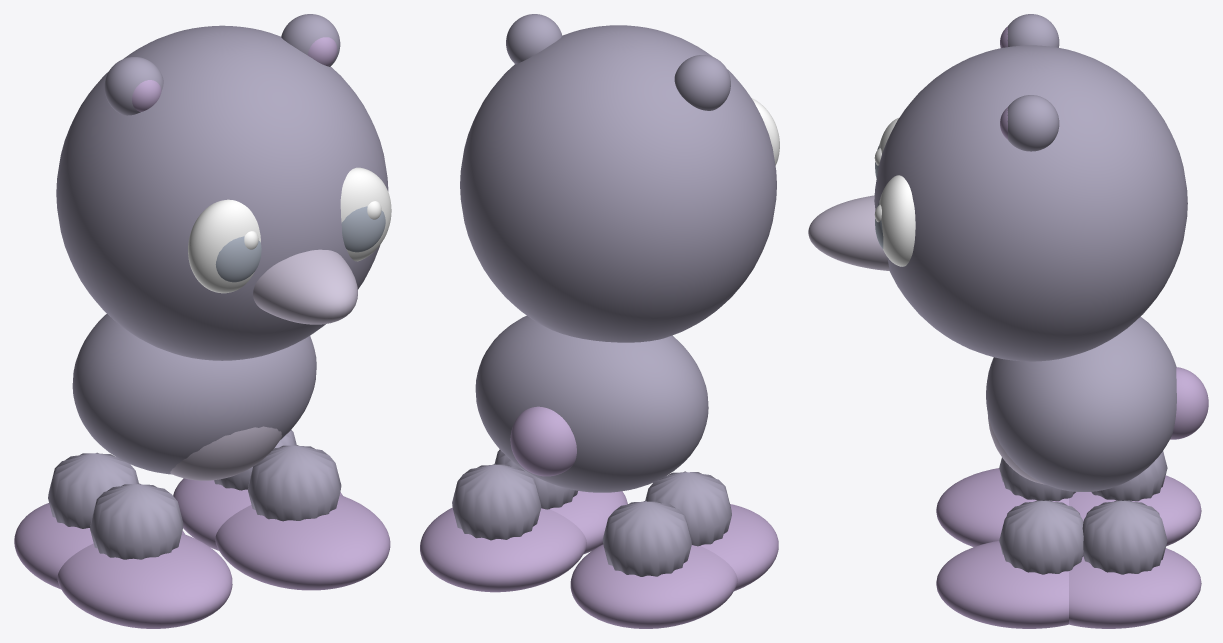
Rendered from ironbadger.glb.
3 renders of one model, left to right at view 1: azimuth 30°, elevation 25°; view 2: azimuth 150°, elevation 25°; view 3: azimuth 270°, elevation 25°, orthographic. The views are drawn at different scales.
Parts seen in each view (by area): view 1: Head, Body, Foot_FR, Foot_FL, Snout, Leg_FL, Leg_FR, Leg_BL, LE_Scl, Foot_BL, Belly, Foot_BR (+8 smaller); view 2: Head, Body, Foot_BL, Foot_BR, Leg_BR, Leg_BL, Leg_FL, Tail, Foot_FL, Ear_0, Foot_FR, Ear_1 (+2 smaller); view 3: Head, Body, Foot_FR, Foot_BR, Leg_BR, Leg_FR, Foot_FL, Snout, Foot_BL, RE_Scl, Ear_1, Tail (+3 smaller).
Boxes of the visible parts, x1=… form: Head: x1=56, y1=25, x2=388, y2=360; Body: x1=72, y1=314, x2=316, y2=474; Foot_FR: x1=215, y1=495, x2=390, y2=590; Foot_FL: x1=57, y1=533, x2=232, y2=628; Snout: x1=253, y1=249, x2=357, y2=324; Leg_FL: x1=90, y1=483, x2=183, y2=559; Leg_FR: x1=248, y1=445, x2=341, y2=521; Leg_BL: x1=48, y1=452, x2=138, y2=528; LE_Scl: x1=188, y1=199, x2=260, y2=293; Foot_BL: x1=14, y1=503, x2=184, y2=589; Belly: x1=170, y1=426, x2=282, y2=480; Foot_BR: x1=173, y1=478, x2=342, y2=550; Head: x1=460, y1=25, x2=776, y2=342; Body: x1=475, y1=315, x2=708, y2=492; Foot_BL: x1=570, y1=544, x2=737, y2=628; Foot_BR: x1=420, y1=507, x2=586, y2=592; Leg_BR: x1=452, y1=464, x2=541, y2=540; Leg_BL: x1=602, y1=501, x2=691, y2=576; Leg_FL: x1=645, y1=471, x2=731, y2=546; Tail: x1=510, y1=406, x2=576, y2=476; Foot_FL: x1=700, y1=504, x2=778, y2=591; Ear_0: x1=674, y1=55, x2=730, y2=110; Foot_FR: x1=550, y1=491, x2=627, y2=554; Ear_1: x1=506, y1=14, x2=562, y2=64; Head: x1=874, y1=45, x2=1187, y2=361; Body: x1=986, y1=316, x2=1176, y2=491; Foot_FR: x1=936, y1=540, x2=1068, y2=628; Foot_BR: x1=1069, y1=548, x2=1201, y2=628; Leg_BR: x1=1082, y1=500, x2=1167, y2=574; Leg_FR: x1=999, y1=500, x2=1083, y2=574; Foot_FL: x1=936, y1=468, x2=1068, y2=547; Snout: x1=808, y1=195, x2=889, y2=270; Foot_BL: x1=1069, y1=475, x2=1201, y2=546; RE_Scl: x1=879, y1=175, x2=915, y2=266; Ear_1: x1=1007, y1=95, x2=1059, y2=151; Tail: x1=1170, y1=367, x2=1208, y2=439.
Size of the model in its own units: 0.6313 by 1.09 by 0.7629.
